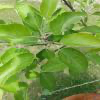Apple rust leaf: (63, 6, 97, 33)
